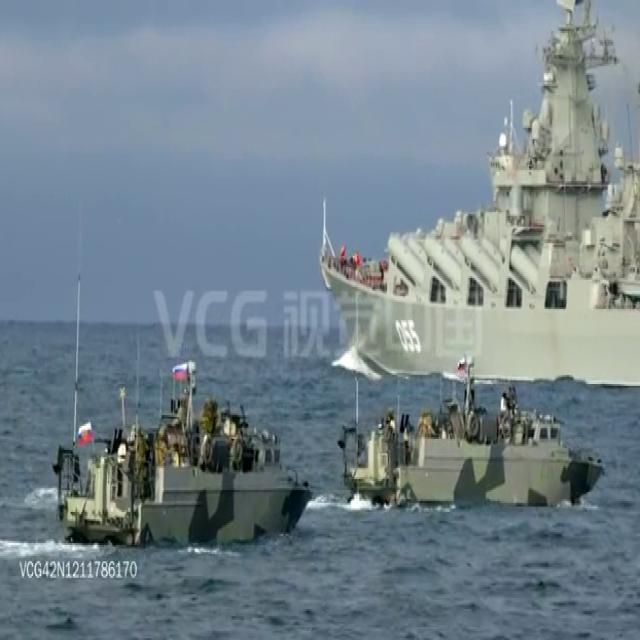cargoship: (321, 0, 640, 382)
houseboat: (52, 352, 308, 552), (336, 353, 606, 504)
